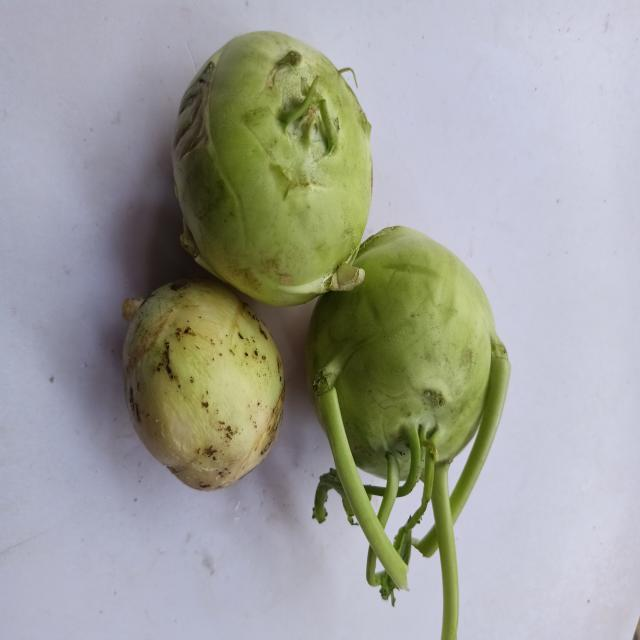Turnip: (302, 219, 514, 636), (158, 19, 386, 312), (106, 271, 297, 535)
